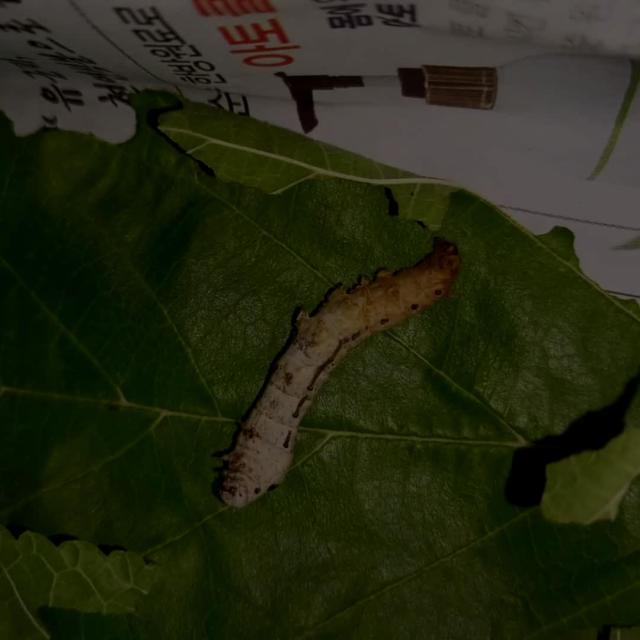Grasserie: (205, 219, 471, 512)
